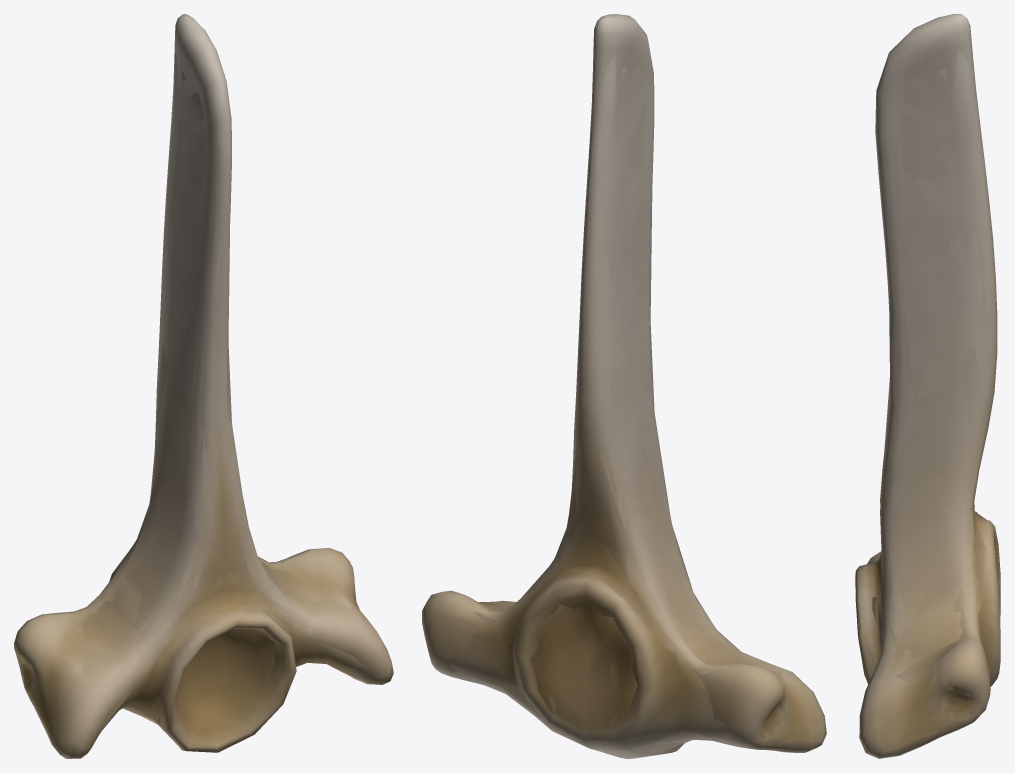
The model's file is vertebrae thoracicae 04.fbx.
3 views of the same model, side by side, from view 1: azimuth 30°, elevation 25°; view 2: azimuth 150°, elevation 25°; view 3: azimuth 270°, elevation 25° (orthographic). The views are drawn at different scales.
Parts seen in each view (by area): view 1: vertebrae thoracicae 04, vertebrae thoracicae 04 low; view 2: vertebrae thoracicae 04, vertebrae thoracicae 04 low; view 3: vertebrae thoracicae 04, vertebrae thoracicae 04 low.
Part boxes in pixels (x1,y1,x2,y2): vertebrae thoracicae 04: (14,14,393,758); vertebrae thoracicae 04 low: (19,48,367,751); vertebrae thoracicae 04: (422,14,826,758); vertebrae thoracicae 04 low: (449,53,806,750); vertebrae thoracicae 04: (855,14,1000,758); vertebrae thoracicae 04 low: (870,49,996,749).
Bounding box in the file's own units: 5.03 × 10.31 × 1.92.
Materials: 1 (1 with a texture image).
